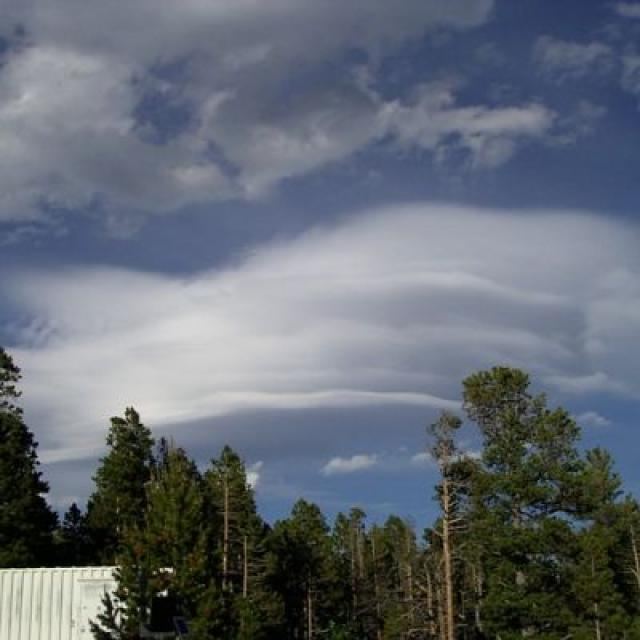Ac: (16, 9, 640, 349)
